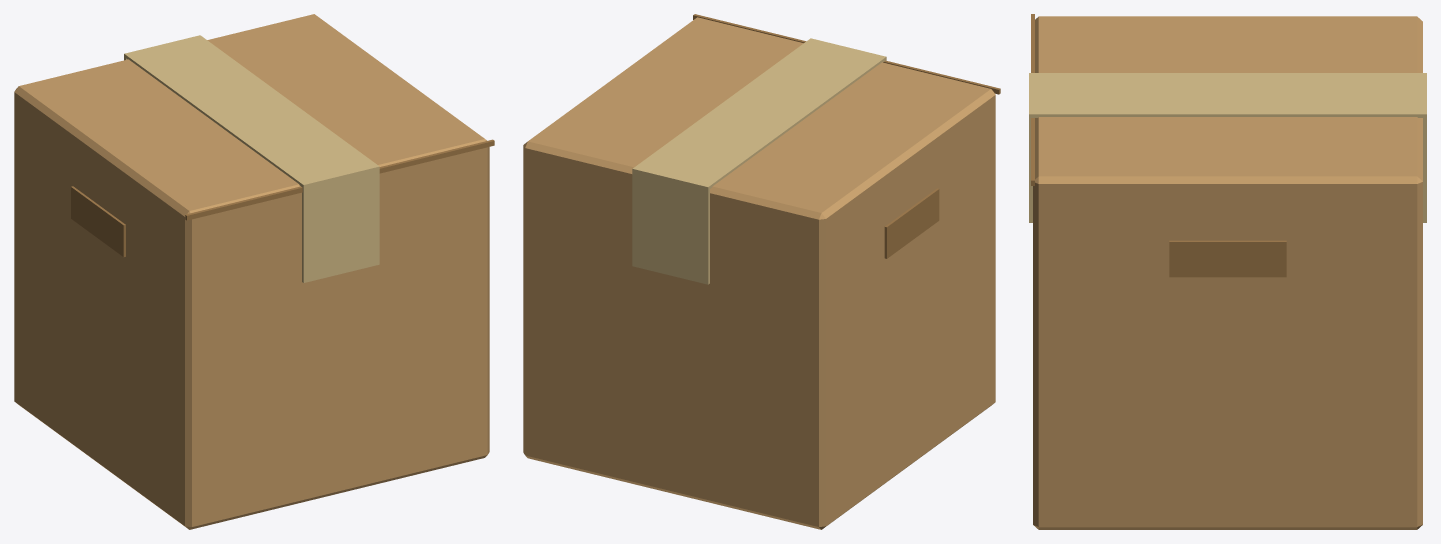
The model's file is FUR_CardboardBox.fbx.
The picture shows the model from 3 angles, left to right: view 1: azimuth 30°, elevation 25°; view 2: azimuth 150°, elevation 25°; view 3: azimuth 270°, elevation 25°; orthographic projection. The views are drawn at different scales.
Visible parts, largest first — view 1: FUR_CardboardBox; view 2: FUR_CardboardBox; view 3: FUR_CardboardBox.
Boxes of the visible parts, x1=… form: FUR_CardboardBox: x1=14, y1=14, x2=494, y2=529; FUR_CardboardBox: x1=523, y1=14, x2=1000, y2=529; FUR_CardboardBox: x1=1029, y1=14, x2=1426, y2=529.
Bounding box in the file's own units: 2.03 × 2.02 × 2.04.
